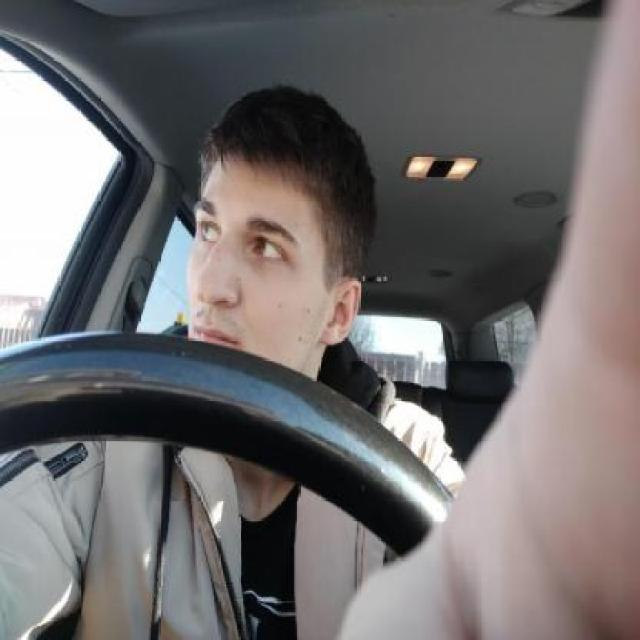awake: (252, 236, 288, 262), (200, 220, 222, 245)
